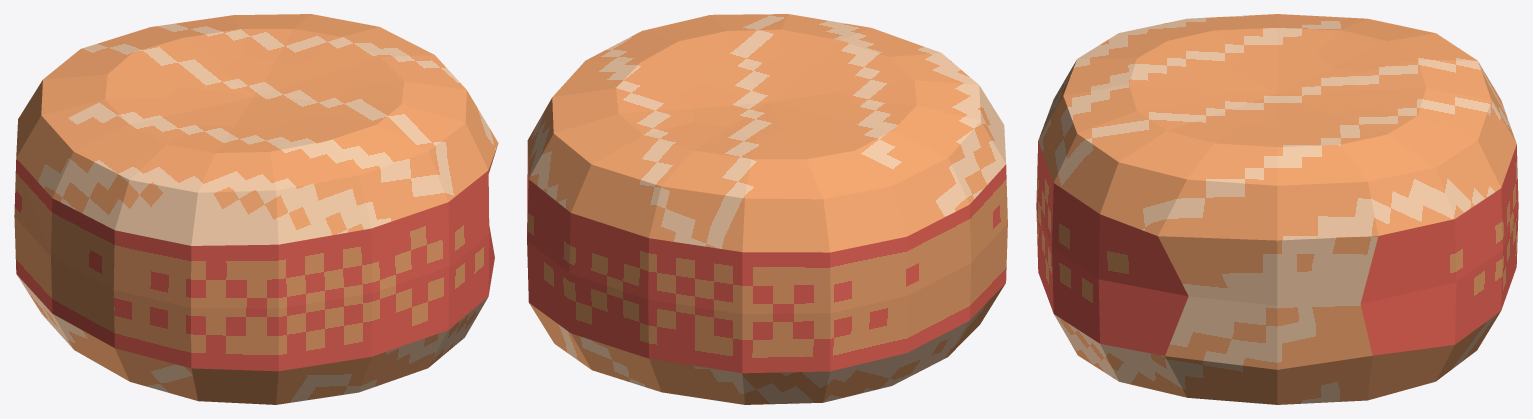
The model's file is oofball_mango.glb.
3 renders of one model, left to right at view 1: azimuth 30°, elevation 25°; view 2: azimuth 150°, elevation 25°; view 3: azimuth 270°, elevation 25°, orthographic. The views are drawn at different scales.
Visible parts, largest first — view 1: Cube; view 2: Cube; view 3: Cube.
Boxes of the visible parts, x1,y1,x2,y2 form: Cube: (14,14,498,404); Cube: (527,14,1007,404); Cube: (1036,14,1518,404).
Bounding box in the file's own units: 1.87 × 1.07 × 1.89.
1 material, 1 textured.
